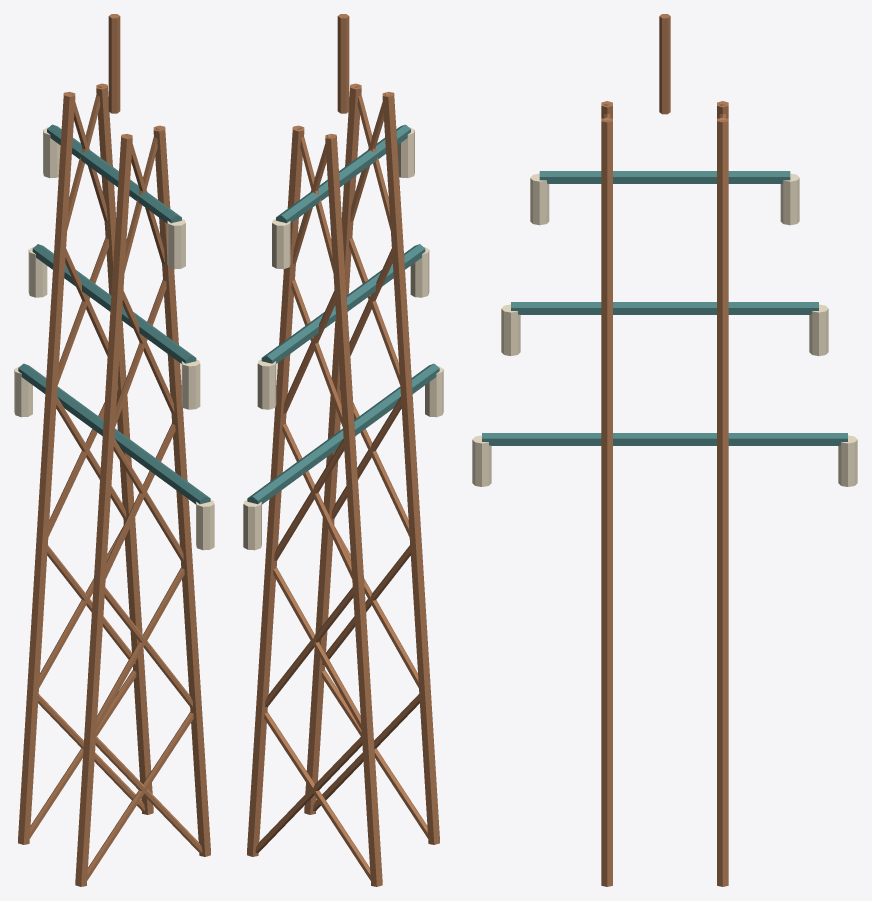
The model's file is hsc3_pylon_14m.glb.
The picture shows the model from 3 angles, left to right: view 1: azimuth 30°, elevation 25°; view 2: azimuth 150°, elevation 25°; view 3: azimuth 270°, elevation 25°; orthographic projection.
Visible parts, largest first — view 1: hsc3_pylon_14m__hsc3-roasted-copper, hsc3_pylon_14m__hsc3-deep-teal, hsc3_pylon_14m__hsc3-pale-trim; view 2: hsc3_pylon_14m__hsc3-roasted-copper, hsc3_pylon_14m__hsc3-deep-teal, hsc3_pylon_14m__hsc3-pale-trim; view 3: hsc3_pylon_14m__hsc3-roasted-copper, hsc3_pylon_14m__hsc3-deep-teal, hsc3_pylon_14m__hsc3-pale-trim.
Part boxes in pixels (box(x1,y1,x2,y2)): hsc3_pylon_14m__hsc3-roasted-copper: box(18, 14, 210, 886); hsc3_pylon_14m__hsc3-deep-teal: box(18, 124, 210, 504); hsc3_pylon_14m__hsc3-pale-trim: box(14, 127, 214, 550); hsc3_pylon_14m__hsc3-roasted-copper: box(247, 14, 439, 886); hsc3_pylon_14m__hsc3-deep-teal: box(247, 124, 439, 504); hsc3_pylon_14m__hsc3-pale-trim: box(243, 127, 443, 550); hsc3_pylon_14m__hsc3-roasted-copper: box(601, 14, 728, 886); hsc3_pylon_14m__hsc3-deep-teal: box(482, 171, 847, 445); hsc3_pylon_14m__hsc3-pale-trim: box(472, 173, 857, 486).
Size of the model in its own units: 3.28 by 19.25 by 8.
